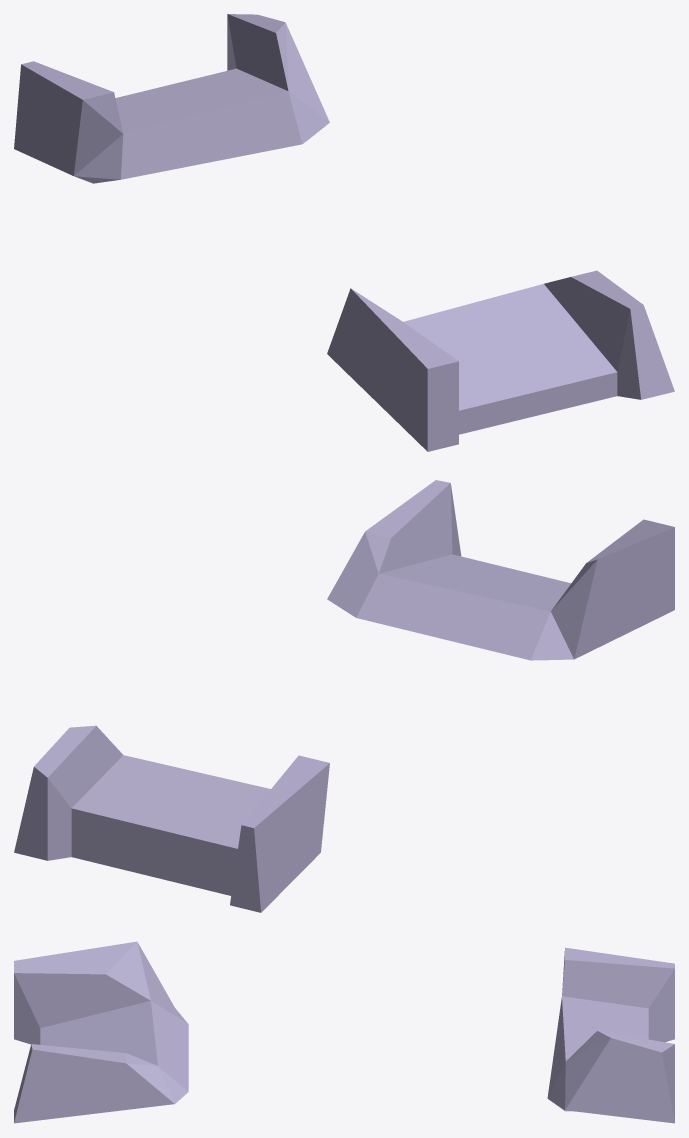
File: BrokenBridge.fbx
The picture shows the model from 3 angles, top to bottom: view 1: azimuth 30°, elevation 25°; view 2: azimuth 150°, elevation 25°; view 3: azimuth 270°, elevation 25°; orthographic projection. The views are drawn at different scales.
Parts seen in each view (by area): view 1: BrokenBridge; view 2: BrokenBridge; view 3: BrokenBridge.
Boxes of the visible parts, left/top/right/bottom form: BrokenBridge: left=14, top=14, right=674, bottom=451; BrokenBridge: left=14, top=480, right=674, bottom=912; BrokenBridge: left=14, top=941, right=674, bottom=1123.
Bounding box in the file's own units: 623 × 274 × 1807.
